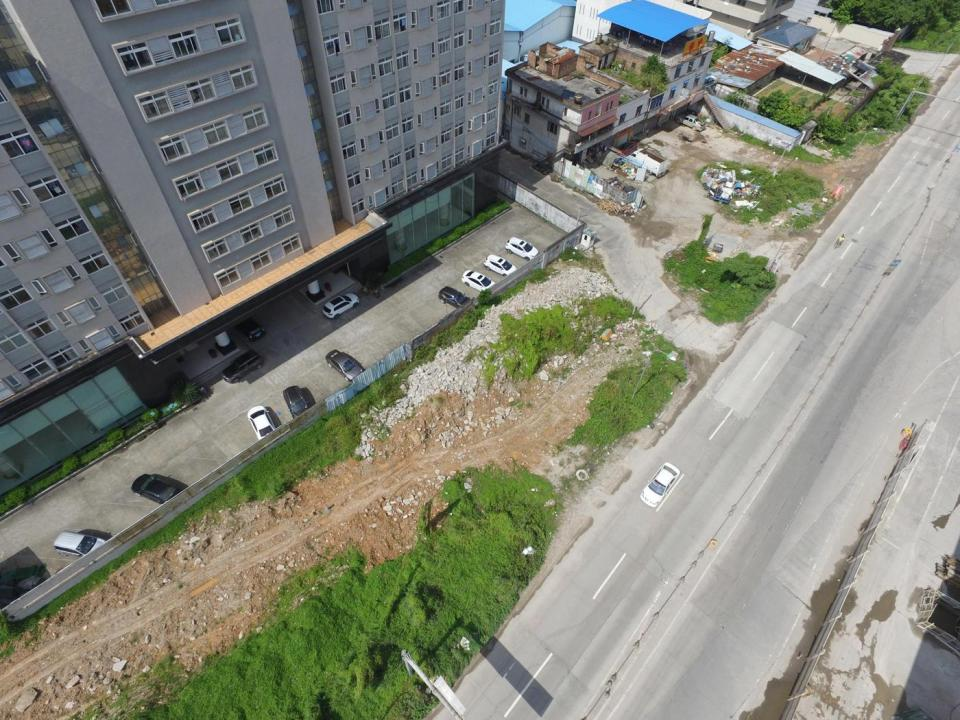car: (642, 463, 680, 509), (132, 474, 184, 507), (53, 532, 110, 560), (325, 350, 366, 384), (246, 406, 276, 448), (284, 385, 310, 428), (440, 286, 475, 313), (234, 312, 262, 344), (461, 268, 495, 294), (322, 294, 358, 318), (508, 235, 538, 261), (485, 254, 516, 278), (616, 141, 638, 158)
truck: (630, 148, 668, 178), (675, 112, 705, 131)
van: (222, 351, 264, 386)
